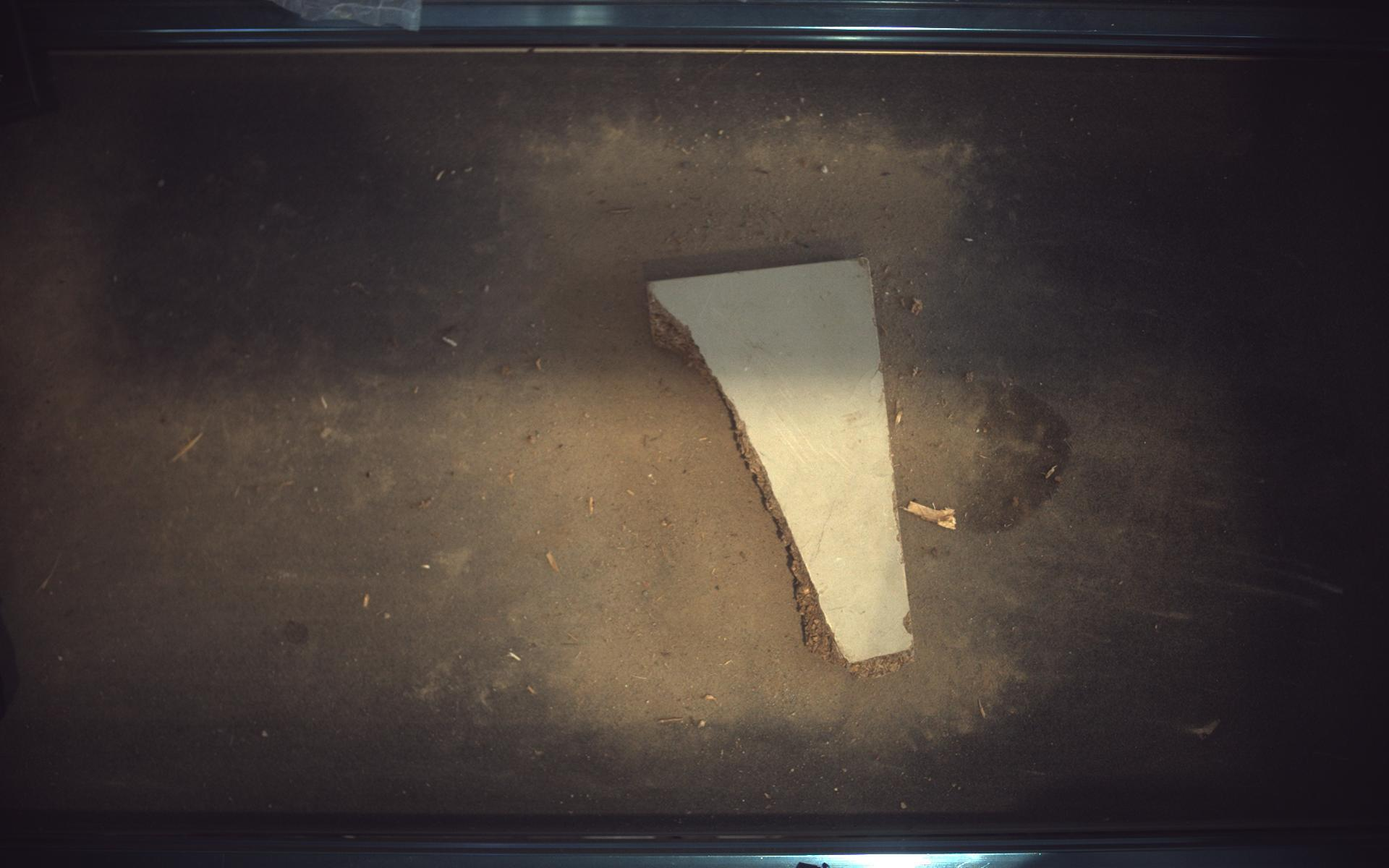wood: (649, 258, 915, 676)
